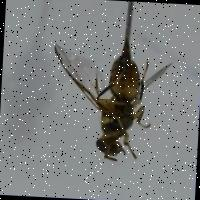Oriental-fruit-fly: (38, 28, 170, 176)
